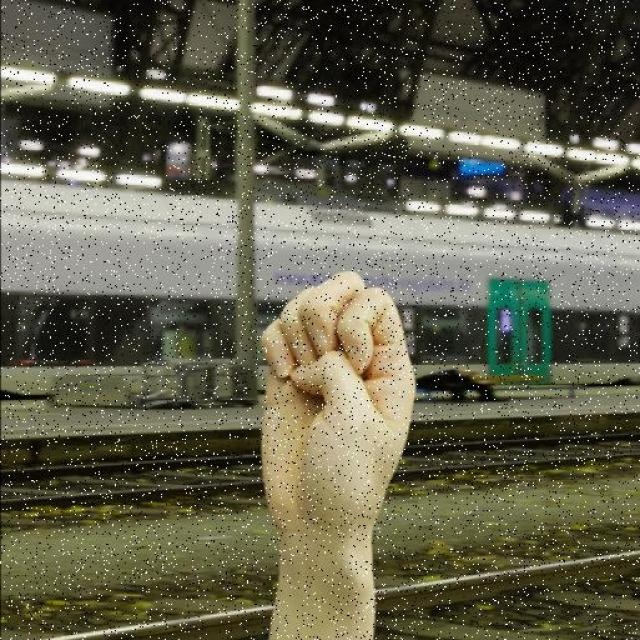E: (255, 267, 419, 541)
